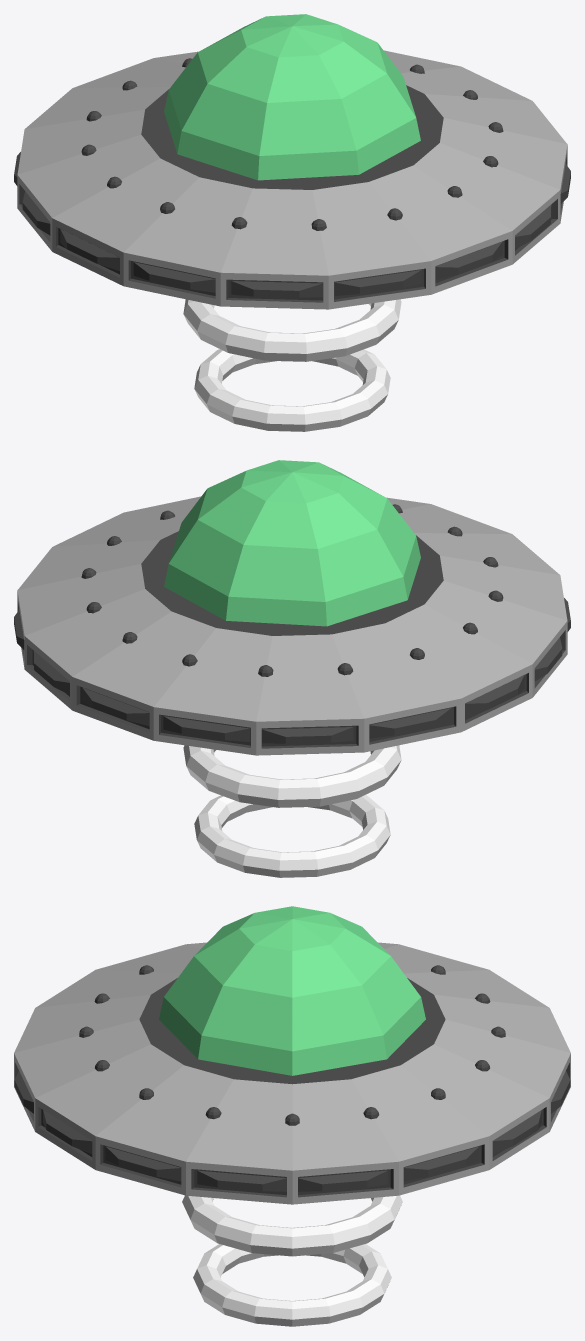
The model's file is space_UFO.glb.
3 renders of one model, top to bottom at view 1: azimuth 30°, elevation 25°; view 2: azimuth 150°, elevation 25°; view 3: azimuth 270°, elevation 25°, orthographic.
Parts seen in each view (by area): view 1: Body; view 2: Body; view 3: Body.
Part boxes in pixels (box(x1,y1,x2,y2)): Body: box(14, 14, 570, 431); Body: box(14, 460, 570, 877); Body: box(14, 906, 570, 1326).
Size of the model in its own units: 4.13 by 3.04 by 4.13.
